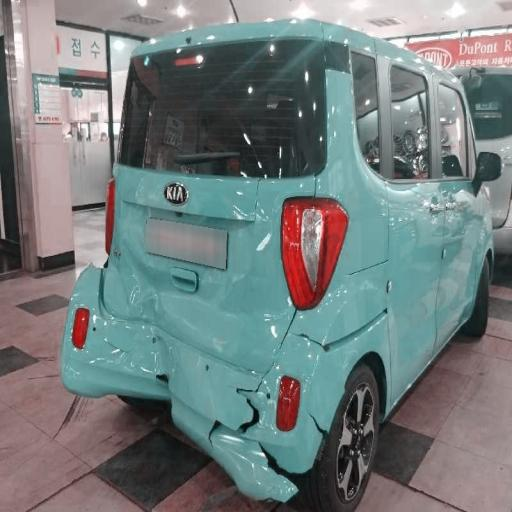broken: (68, 194, 368, 510)
